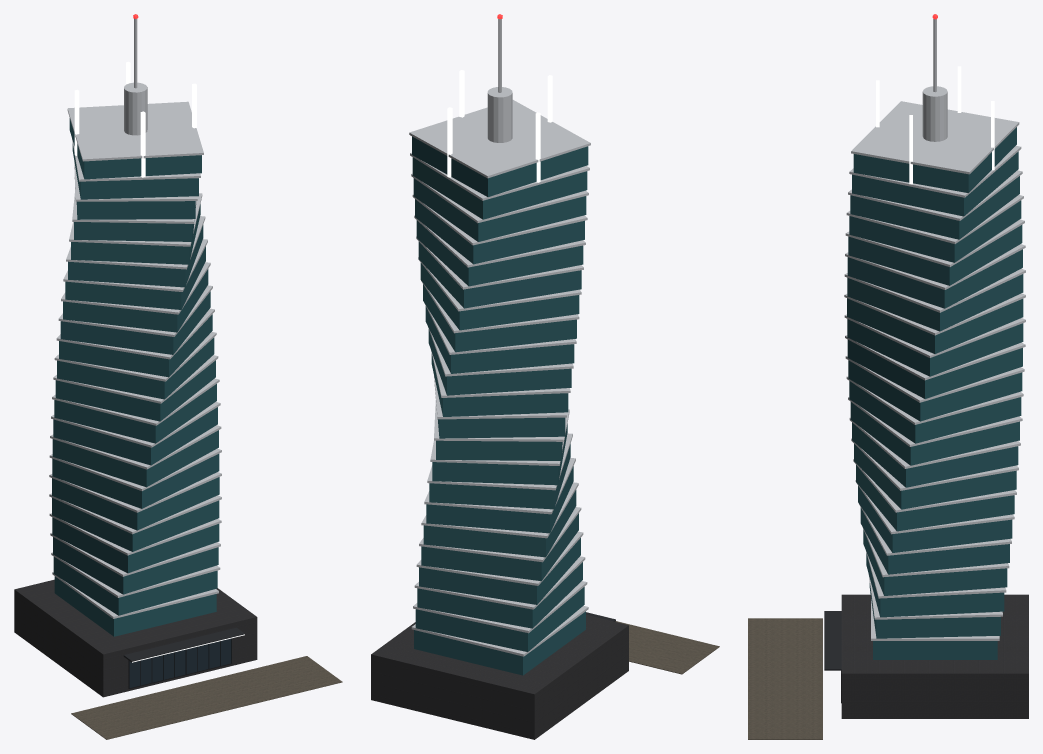
Rendered from OT_Skyscraper_Twist.glb.
The picture shows the model from 3 angles, left to right: view 1: azimuth 30°, elevation 25°; view 2: azimuth 150°, elevation 25°; view 3: azimuth 270°, elevation 25°; orthographic projection. The views are drawn at different scales.
Parts seen in each view (by area): view 1: OT_Skyscraper_Twist_TealGlass__2a5a62, OT_Skyscraper_Twist_Mullion__c9ccd1, OT_Skyscraper_Twist_Granite, OT_Skyscraper_Twist_Pavement, OT_Skyscraper_Twist_Glass__22303a, OT_Skyscraper_Twist_CanopyDark__2a2c30, OT_Skyscraper_Twist_LEDStrip__e8f2ff; view 2: OT_Skyscraper_Twist_TealGlass__2a5a62, OT_Skyscraper_Twist_Mullion__c9ccd1, OT_Skyscraper_Twist_Granite, OT_Skyscraper_Twist_Pavement, OT_Skyscraper_Twist_LEDStrip__e8f2ff; view 3: OT_Skyscraper_Twist_TealGlass__2a5a62, OT_Skyscraper_Twist_Mullion__c9ccd1, OT_Skyscraper_Twist_Granite, OT_Skyscraper_Twist_Pavement, OT_Skyscraper_Twist_CanopyDark__2a2c30, OT_Skyscraper_Twist_LEDStrip__e8f2ff.
Boxes of the visible parts, x1,y1,x2,y2 form: OT_Skyscraper_Twist_TealGlass__2a5a62: (52,118,219,636); OT_Skyscraper_Twist_Mullion__c9ccd1: (49,18,221,618); OT_Skyscraper_Twist_Granite: (14,579,257,697); OT_Skyscraper_Twist_Pavement: (71,656,342,739); OT_Skyscraper_Twist_Glass__22303a: (129,638,231,687); OT_Skyscraper_Twist_CanopyDark__2a2c30: (123,627,244,662); OT_Skyscraper_Twist_LEDStrip__e8f2ff: (74,61,196,177); OT_Skyscraper_Twist_TealGlass__2a5a62: (412,136,588,675); OT_Skyscraper_Twist_Mullion__c9ccd1: (409,19,590,656); OT_Skyscraper_Twist_Granite: (371,615,628,739); OT_Skyscraper_Twist_Pavement: (615,621,719,674); OT_Skyscraper_Twist_LEDStrip__e8f2ff: (447,70,552,182); OT_Skyscraper_Twist_TealGlass__2a5a62: (847,127,1023,659); OT_Skyscraper_Twist_Mullion__c9ccd1: (844,19,1025,640); OT_Skyscraper_Twist_Granite: (841,594,1028,718); OT_Skyscraper_Twist_Pavement: (748,618,822,739); OT_Skyscraper_Twist_CanopyDark__2a2c30: (824,611,841,670); OT_Skyscraper_Twist_LEDStrip__e8f2ff: (876,66,994,184).
Bounding box in the file's own units: 46 × 118 × 45.
Materials: 11 (2 with a texture image).
